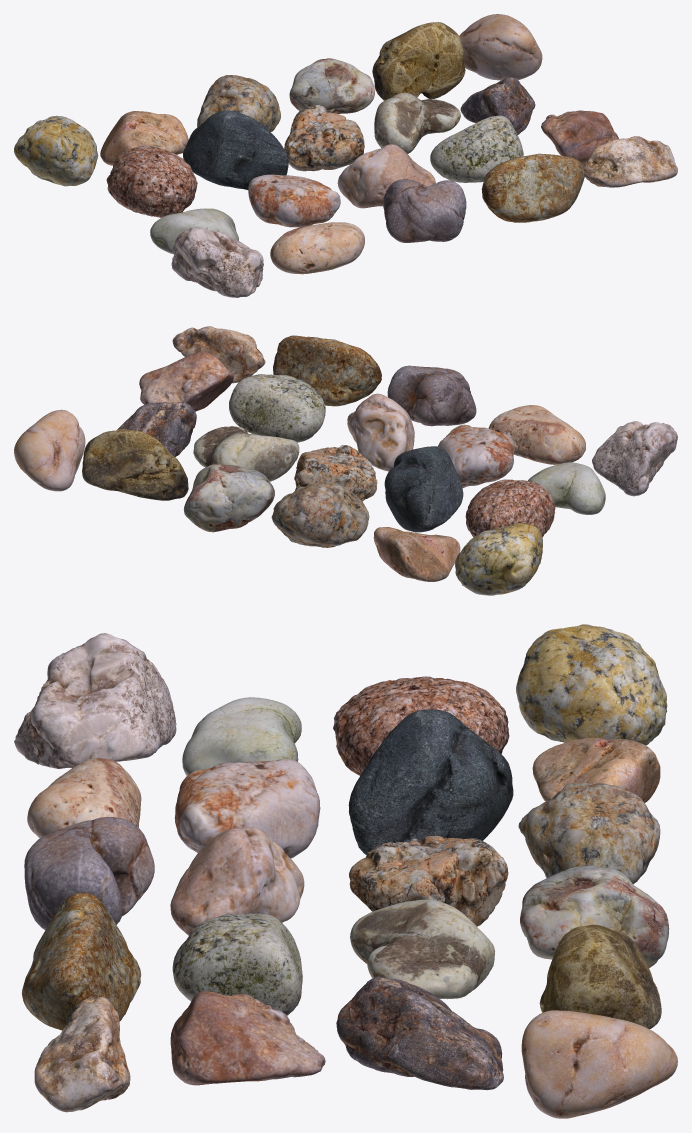
3 views of the same model, one above another, from view 1: azimuth 30°, elevation 25°; view 2: azimuth 150°, elevation 25°; view 3: azimuth 270°, elevation 25° (orthographic). The views are drawn at different scales.
Visible parts, largest first — view 1: rock052_LOD1, rock051_LOD1, rock048_LOD1, rock060_LOD1, rock059_LOD1, rock064_LOD1, rock044_LOD1, rock061_LOD1, rock055_LOD1, rock053_LOD1, rock067_LOD1, rock063_LOD1 (+9 smaller); view 2: rock048_LOD1, rock052_LOD1, rock051_LOD1, rock055_LOD1, rock044_LOD1, rock046_LOD1, rock047_LOD1, rock059_LOD1, rock061_LOD1, rock064_LOD1, rock060_LOD1, rock063_LOD1 (+9 smaller); view 3: rock052_LOD1, rock059_LOD1, rock044_LOD1, rock061_LOD1, rock062_LOD1, rock066_LOD1, rock067_LOD1, rock051_LOD1, rock054_LOD1, rock046_LOD1, rock064_LOD1, rock053_LOD1 (+9 smaller).
Boxes of the visible parts, box(x1,y1,x2,y2) form: rock052_LOD1: box(183, 110, 288, 189); rock051_LOD1: box(481, 153, 584, 222); rock048_LOD1: box(372, 22, 465, 100); rock060_LOD1: box(106, 146, 197, 217); rock059_LOD1: box(171, 227, 263, 297); rock064_LOD1: box(383, 179, 466, 242); rock044_LOD1: box(14, 115, 98, 186); rock061_LOD1: box(459, 14, 542, 80); rock055_LOD1: box(430, 115, 523, 182); rock053_LOD1: box(284, 104, 364, 171); rock067_LOD1: box(248, 174, 340, 227); rock063_LOD1: box(270, 222, 364, 274); rock048_LOD1: box(82, 429, 188, 500); rock052_LOD1: box(384, 446, 463, 532); rock051_LOD1: box(273, 335, 381, 406); rock055_LOD1: box(229, 374, 325, 442); rock044_LOD1: box(454, 523, 542, 595); rock046_LOD1: box(271, 480, 369, 547); rock047_LOD1: box(183, 464, 274, 532); rock059_LOD1: box(592, 421, 677, 496); rock061_LOD1: box(14, 409, 85, 491); rock064_LOD1: box(387, 365, 476, 426); rock060_LOD1: box(465, 479, 555, 537); rock063_LOD1: box(488, 405, 585, 464); rock052_LOD1: box(348, 709, 513, 855); rock059_LOD1: box(14, 633, 176, 768); rock044_LOD1: box(516, 624, 667, 745); rock061_LOD1: box(521, 1010, 677, 1118); rock062_LOD1: box(336, 976, 503, 1090); rock066_LOD1: box(170, 991, 325, 1085); rock067_LOD1: box(174, 758, 320, 858); rock051_LOD1: box(21, 893, 141, 1030); rock054_LOD1: box(350, 899, 494, 999); rock046_LOD1: box(518, 782, 660, 884); rock064_LOD1: box(24, 817, 154, 930); rock053_LOD1: box(349, 835, 508, 926).
Bounding box in the file's own units: 662 × 95.22 × 439.
21 materials, 21 textured.
